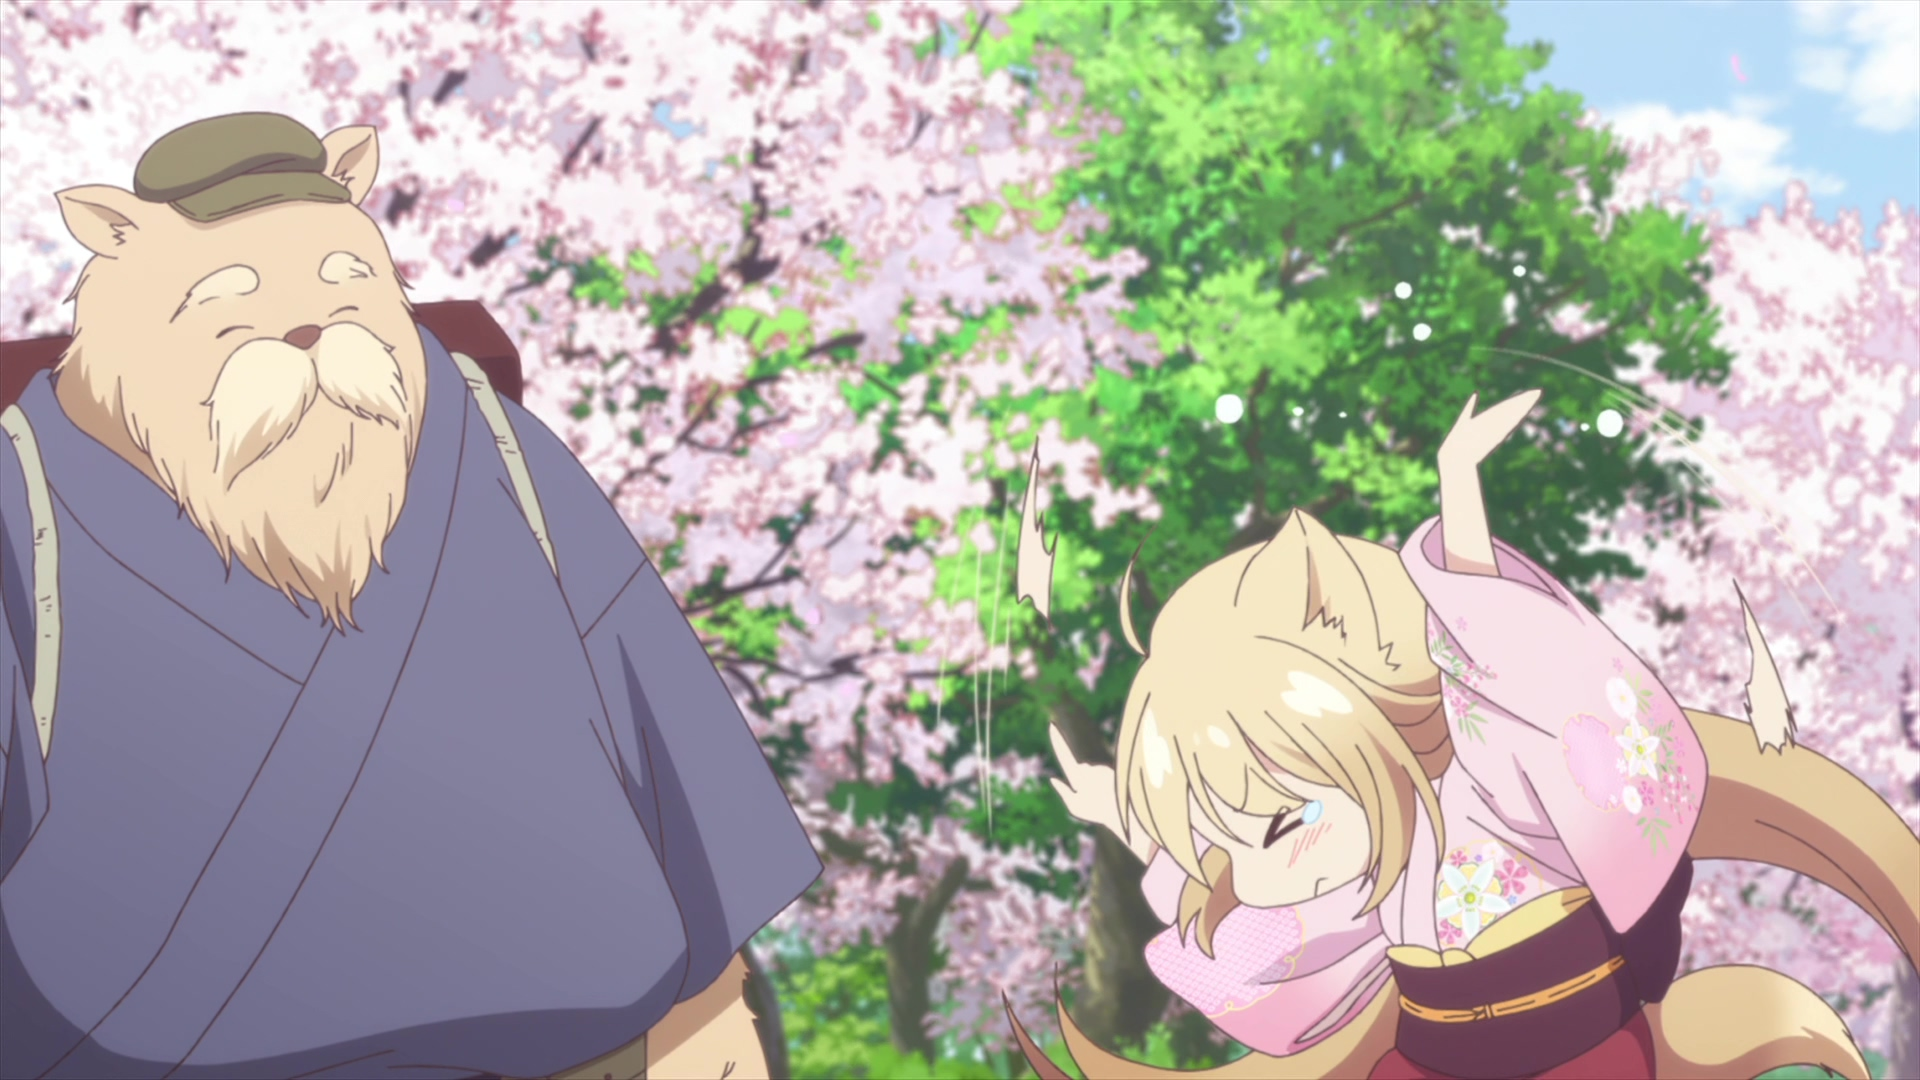柚: (1000, 389, 1920, 1080)
药店老板: (1, 112, 823, 1080)
